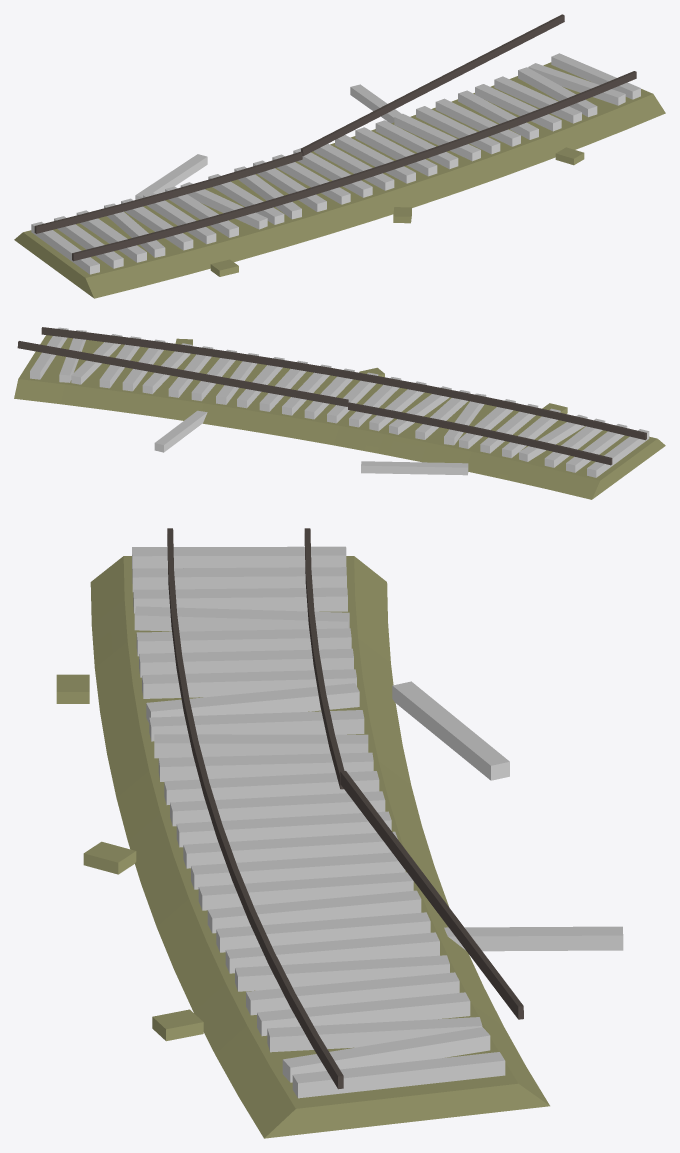
Rendered from SM_Via_CurvaR60_v4_Danada_LOD0.fbx.
3 views of the same model, one above another, from view 1: azimuth 30°, elevation 25°; view 2: azimuth 150°, elevation 25°; view 3: azimuth 270°, elevation 25° (orthographic). The views are drawn at different scales.
Visible parts, largest first — view 1: SM_via_trazado_v14_LOD0; view 2: SM_via_trazado_v14_LOD0; view 3: SM_via_trazado_v14_LOD0.
Boxes of the visible parts, bbox=[...] form: SM_via_trazado_v14_LOD0: bbox=[14, 14, 665, 298]; SM_via_trazado_v14_LOD0: bbox=[14, 327, 665, 499]; SM_via_trazado_v14_LOD0: bbox=[56, 528, 623, 1138].
Bounding box in the file's own units: 16 × 1.38 × 6.88.
